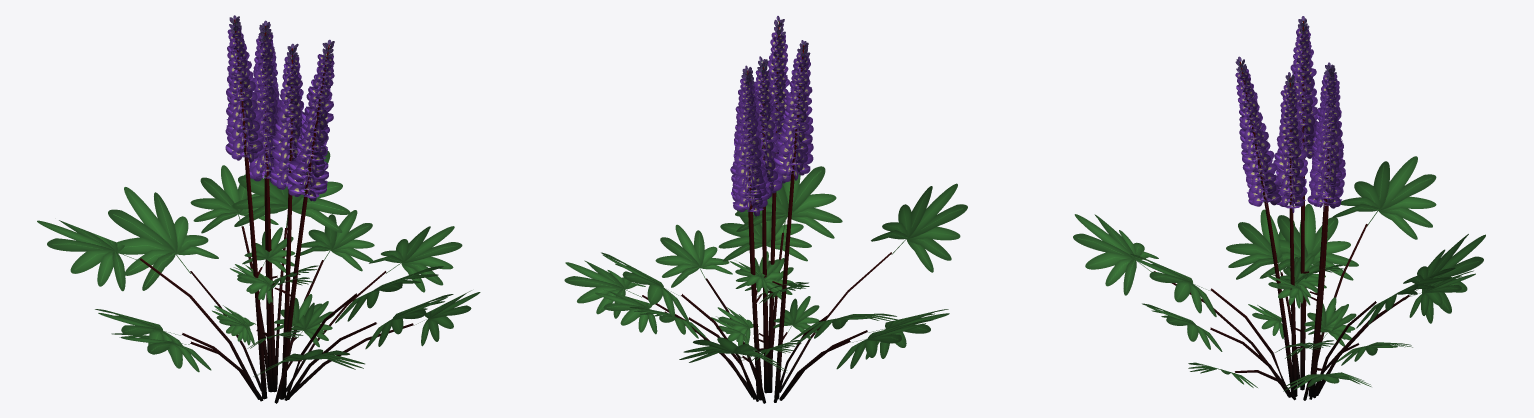
The model's file is lupine_v02.glb.
3 renders of one model, left to right at view 1: azimuth 30°, elevation 25°; view 2: azimuth 150°, elevation 25°; view 3: azimuth 270°, elevation 25°, orthographic. The views are drawn at different scales.
Visible parts, largest first — view 1: lupine_v02; view 2: lupine_v02; view 3: lupine_v02.
Part boxes in pixels (x1,y1,x2,y2): lupine_v02: (37, 15, 480, 403); lupine_v02: (564, 16, 967, 403); lupine_v02: (1073, 16, 1485, 400).
Bounding box in the file's own units: 0.971 × 0.8236 × 0.994.
Materials: 3 (3 with a texture image).
